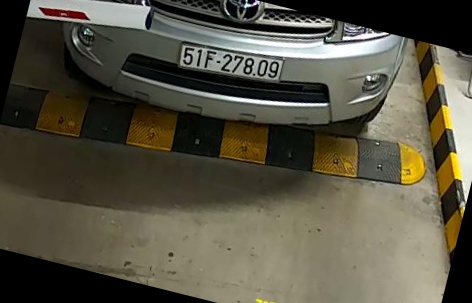plate: (176, 38, 289, 89)
